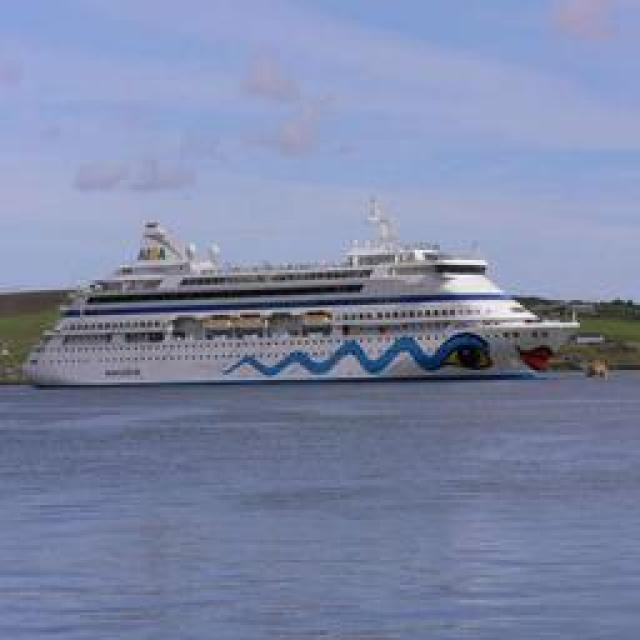CIV_Ship: (34, 204, 586, 378)
